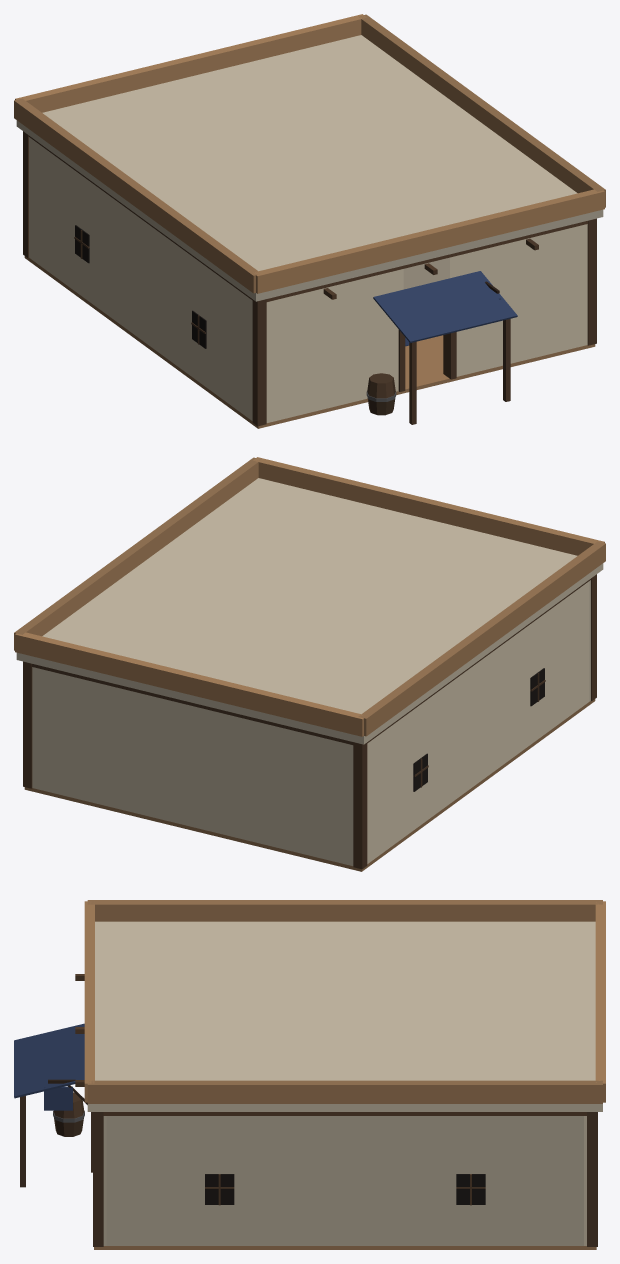
Rendered from walk_sunborn_tavern.glb.
3 renders of one model, top to bottom at view 1: azimuth 30°, elevation 25°; view 2: azimuth 150°, elevation 25°; view 3: azimuth 270°, elevation 25°, orthographic. The views are drawn at different scales.
Parts seen in each view (by area): view 1: walk_sunborn_tavern_roof, walk_sunborn_tavern; view 2: walk_sunborn_tavern_roof, walk_sunborn_tavern; view 3: walk_sunborn_tavern_roof, walk_sunborn_tavern.
Boxes of the visible parts, box(x1,y1,x2,y2) form: walk_sunborn_tavern_roof: box(14, 14, 605, 301); walk_sunborn_tavern: box(23, 131, 596, 428); walk_sunborn_tavern_roof: box(14, 457, 605, 744); walk_sunborn_tavern: box(23, 574, 596, 871); walk_sunborn_tavern_roof: box(84, 900, 605, 1111); walk_sunborn_tavern: box(14, 974, 597, 1249).
Size of what is drawn, in the model's own units: 10.45 by 4.45 by 14.14.
2 materials, 2 textured.
